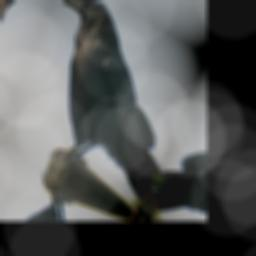Crow: (9, 0, 204, 214)
